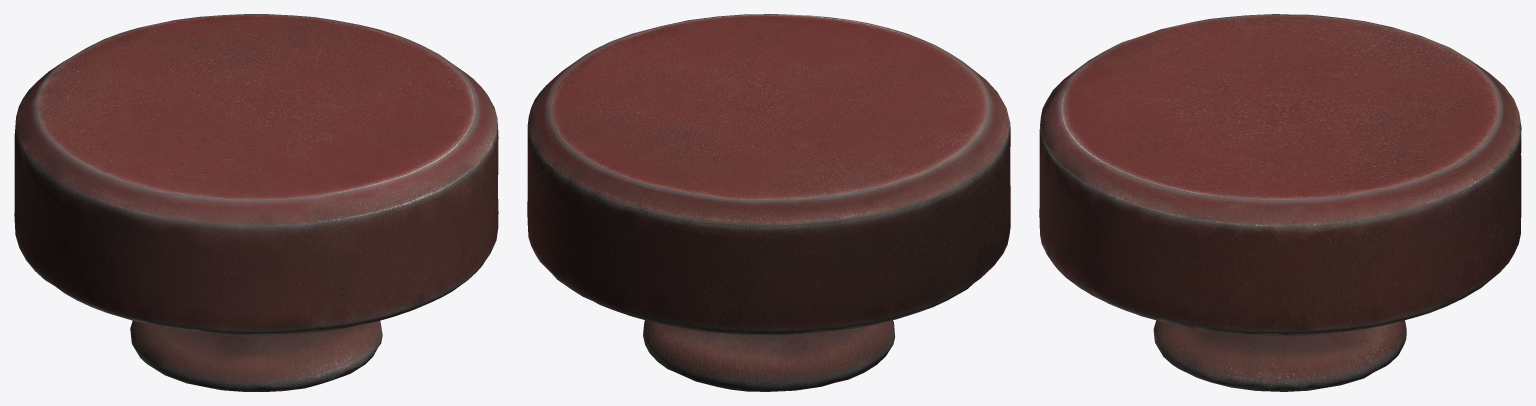
The model's file is Prop_PuzzleButton.fbx.
The picture shows the model from 3 angles, left to right: view 1: azimuth 30°, elevation 25°; view 2: azimuth 150°, elevation 25°; view 3: azimuth 270°, elevation 25°; orthographic projection.
Visible parts, largest first — view 1: texture_mapping; view 2: texture_mapping; view 3: texture_mapping.
Boxes of the visible parts, x1=… form: texture_mapping: x1=14, y1=14, x2=498, y2=391; texture_mapping: x1=527, y1=14, x2=1010, y2=391; texture_mapping: x1=1039, y1=14, x2=1521, y2=391.
Bounding box in the file's own units: 1 × 1 × 0.54.
Materials: 1 (1 with a texture image).
